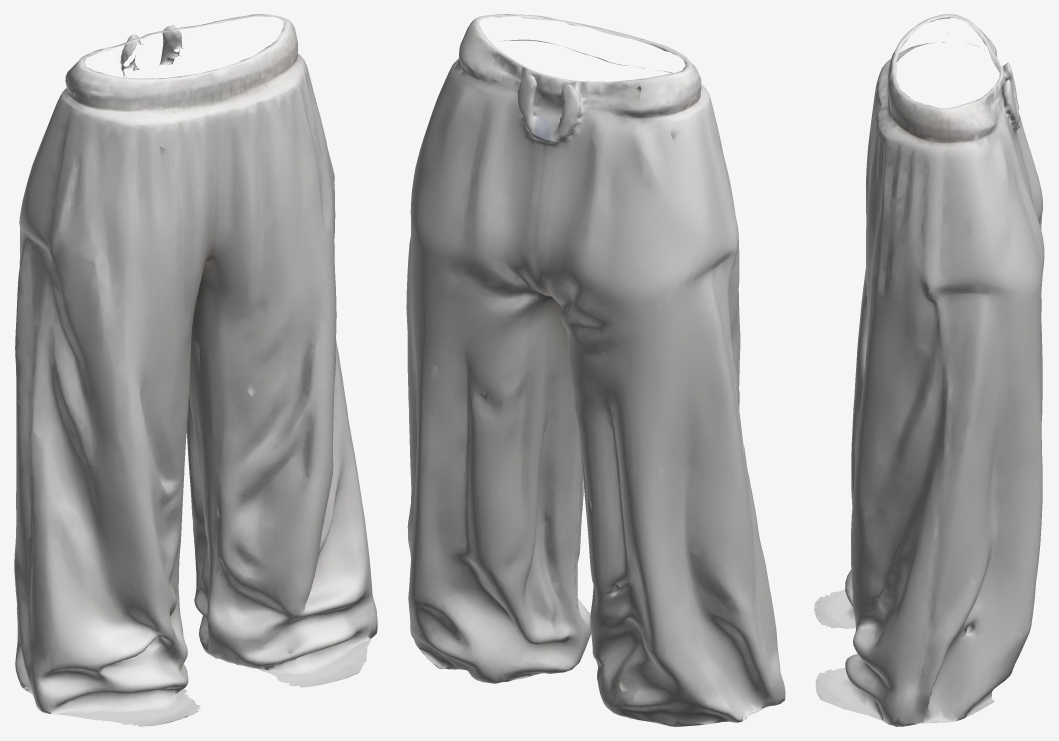
Rendered from jogger.glb.
3 renders of one model, left to right at view 1: azimuth 30°, elevation 25°; view 2: azimuth 150°, elevation 25°; view 3: azimuth 270°, elevation 25°, orthographic. The views are drawn at different scales.
Parts seen in each view (by area): view 1: geometry_0; view 2: geometry_0; view 3: geometry_0.
Part boxes in pixels (<box>): geometry_0: <box>14,14,377,726</box>; geometry_0: <box>406,14,785,726</box>; geometry_0: <box>814,14,1044,726</box>.
Bounding box in the file's own units: 0.5464 × 0.9372 × 0.3331.
Materials: 1 (1 with a texture image).
